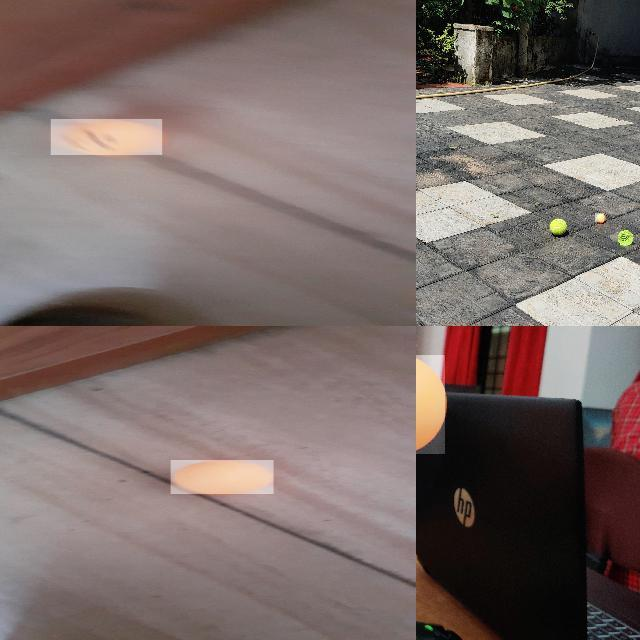ping-pong-ball: (50, 118, 164, 156), (171, 460, 275, 494), (416, 355, 447, 456), (595, 213, 605, 223)
